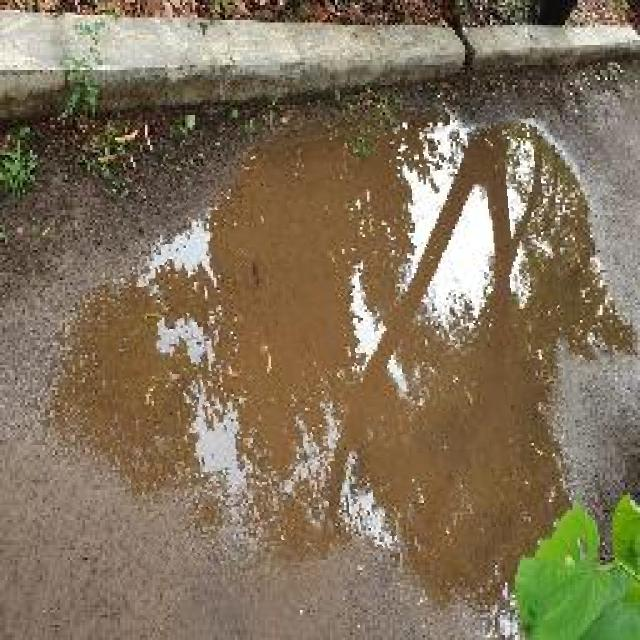puddle: (107, 127, 578, 568)
